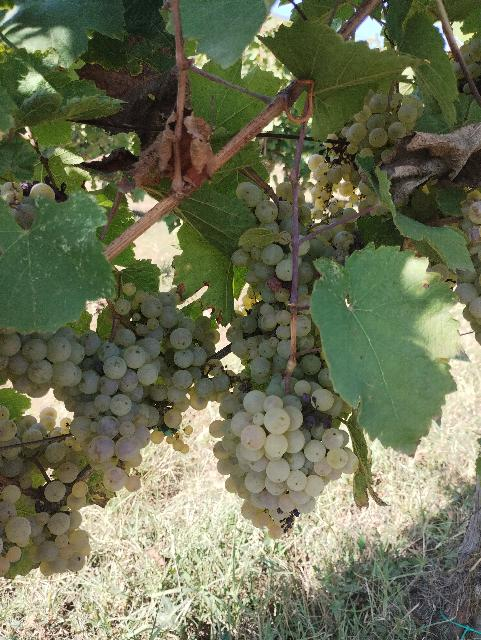grapes: (52, 292, 211, 492), (219, 386, 359, 539), (0, 408, 91, 578)
